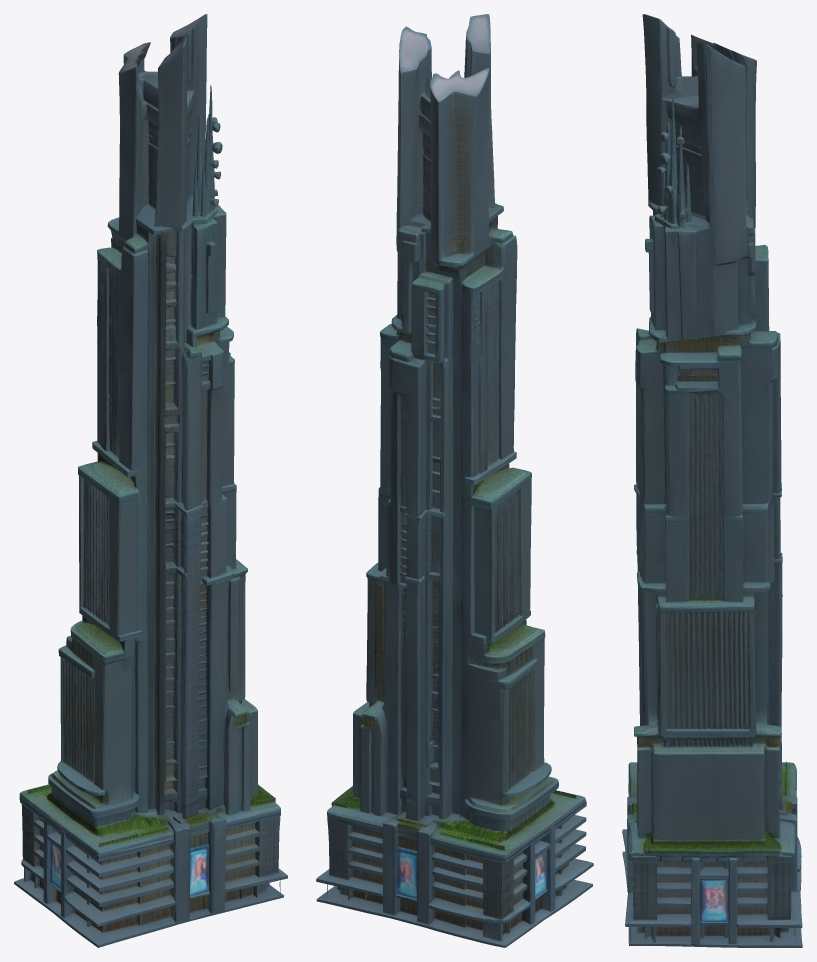
File: scene-detail.glb
The picture shows the model from 3 angles, left to right: view 1: azimuth 30°, elevation 25°; view 2: azimuth 150°, elevation 25°; view 3: azimuth 270°, elevation 25°; orthographic projection. The views are drawn at different scales.
Parts seen in each view (by area): view 1: model; view 2: model; view 3: model.
Boxes of the visible parts, <box> form: model: <box>14,14,287,947</box>; model: <box>316,14,593,947</box>; model: <box>622,14,802,947</box>.
Size of the model in its own units: 0.4433 by 1.9 by 0.3495.
1 material, 1 textured.
